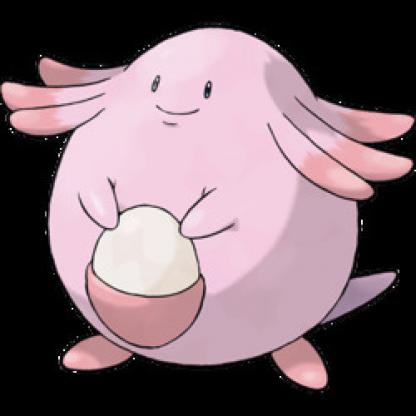Chansey: (1, 1, 416, 401)
